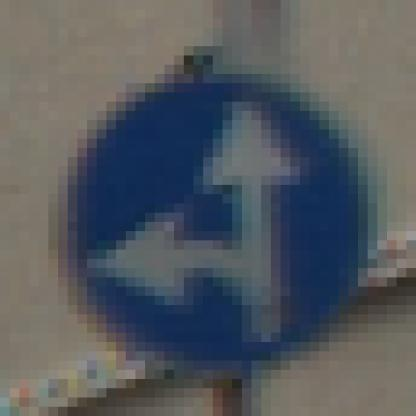Straight or Left: (59, 57, 369, 362)
